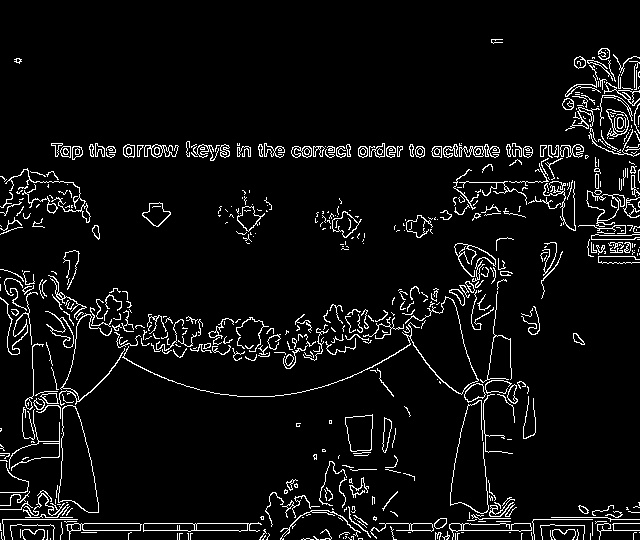rune_box: (75, 175, 487, 278)
